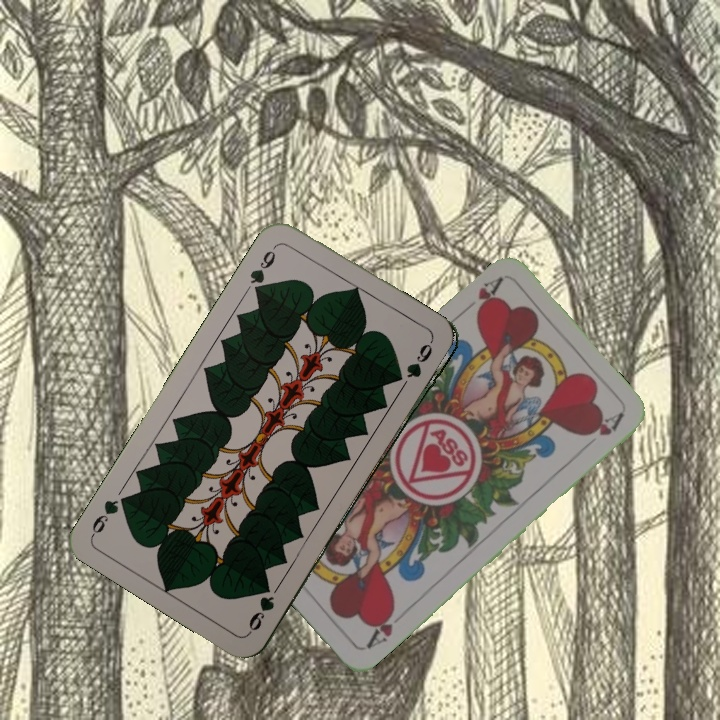G9: (245, 240, 281, 298), (244, 592, 277, 637)
HA: (456, 273, 505, 321), (362, 602, 399, 651)
